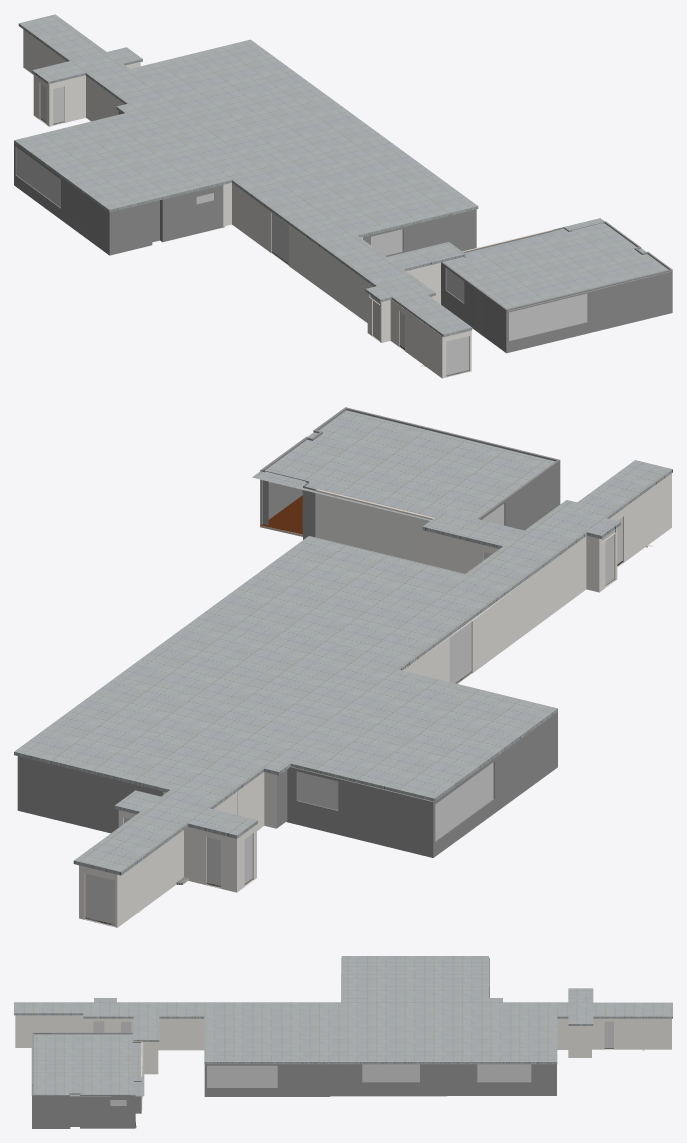
The model's file is hall副本.fbx.
3 views of the same model, one above another, from view 1: azimuth 30°, elevation 25°; view 2: azimuth 150°, elevation 25°; view 3: azimuth 270°, elevation 25° (orthographic). The views are drawn at different scales.
Visible parts, largest first — view 1: 平面, Plane, wall_11.001, wall_11.002, wall_3.002, wall_30.005, window_4.003, wall_6.003, window_4.002, wall_41.003, wall_14.001, door_0.003 (+5 smaller); view 2: 平面, Plane, wall_11.002, wall_3.002, wall_30.005, wall_11.001, wall_12.002, wall_14.001, wall_6.003, window_4.002, wall_17.004, wall_23.002 (+6 smaller); view 3: 平面, wall_30.005, Plane, wall_11.001, wall_6.007, window_1, wall_7.002, wall_14.003, window_2.005, window_0, wall_16.004, wall_9.002 (+4 smaller).
Boxes of the visible parts, x1=… form: 平面: x1=14, y1=14, x2=478, y2=337; Plane: x1=444, y1=218, x2=672, y2=311; wall_11.001: x1=441, y1=221, x2=672, y2=353; wall_11.002: x1=14, y1=111, x2=224, y2=255; wall_3.002: x1=232, y1=183, x2=373, y2=322; wall_30.005: x1=363, y1=209, x2=476, y2=256; window_4.003: x1=509, y1=293, x2=587, y2=340; wall_6.003: x1=390, y1=299, x2=442, y2=378; window_4.002: x1=16, y1=147, x2=60, y2=207; wall_41.003: x1=49, y1=75, x2=85, y2=126; wall_14.001: x1=23, y1=29, x2=66, y2=74; door_0.003: x1=446, y1=336, x2=469, y2=375; 平面: x1=14, y1=460, x2=672, y2=875; Plane: x1=252, y1=410, x2=554, y2=520; wall_11.002: x1=276, y1=712, x2=557, y2=857; wall_3.002: x1=403, y1=536, x2=586, y2=681; wall_30.005: x1=17, y1=756, x2=163, y2=833; wall_11.001: x1=260, y1=407, x2=560, y2=539; wall_12.002: x1=315, y1=490, x2=432, y2=563; wall_14.001: x1=117, y1=830, x2=183, y2=927; wall_6.003: x1=610, y1=473, x2=671, y2=567; window_4.002: x1=435, y1=762, x2=493, y2=840; wall_17.004: x1=184, y1=827, x2=236, y2=892; wall_23.002: x1=424, y1=531, x2=498, y2=573; 平面: x1=14, y1=956, x2=672, y2=1064; wall_30.005: x1=204, y1=1064, x2=556, y2=1096; Plane: x1=31, y1=1034, x2=144, y2=1096; wall_11.001: x1=32, y1=1032, x2=141, y2=1128; wall_6.007: x1=592, y1=1018, x2=671, y2=1049; window_1: x1=207, y1=1065, x2=277, y2=1087; wall_7.002: x1=158, y1=1018, x2=204, y2=1050; wall_14.003: x1=15, y1=1015, x2=83, y2=1047; window_2.005: x1=362, y1=1064, x2=419, y2=1081; window_0: x1=477, y1=1064, x2=531, y2=1081; wall_16.004: x1=568, y1=1026, x2=591, y2=1057; wall_9.002: x1=142, y1=1042, x2=158, y2=1074.
Size of the model in its own units: 2350 by 4756 by 287.
79 materials, 4 textured.
